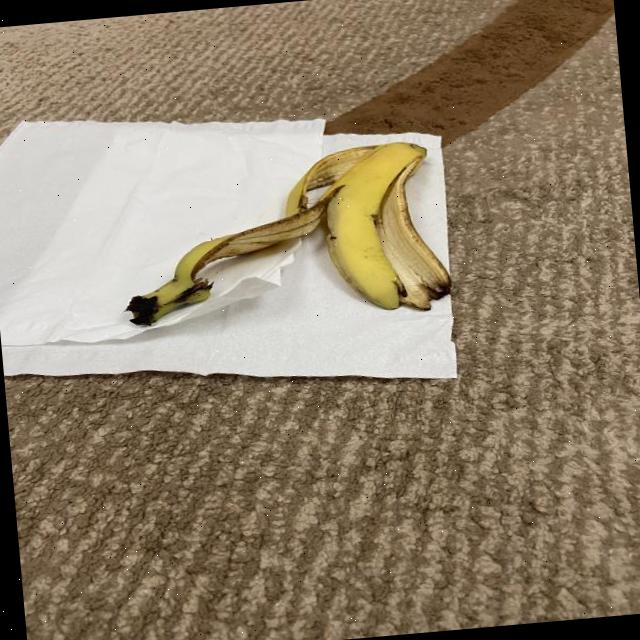banana-peel: (110, 136, 452, 335), (279, 136, 452, 320)
